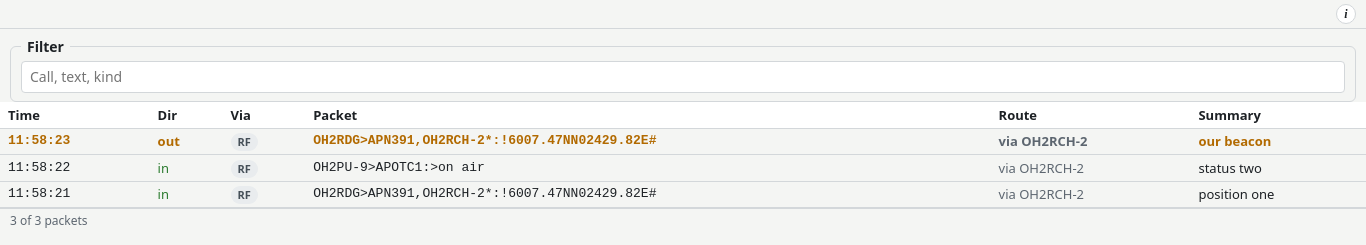
PacketsLog › has the (i) of the tab at the top, which says what the list is
The width and height of the screenshot is (1366, 245).
What coordinates should you click on to do the following:
click the button with class "info-toggle"
I would click on:
 (1346, 14)
Its box is [1336,4,1356,24].
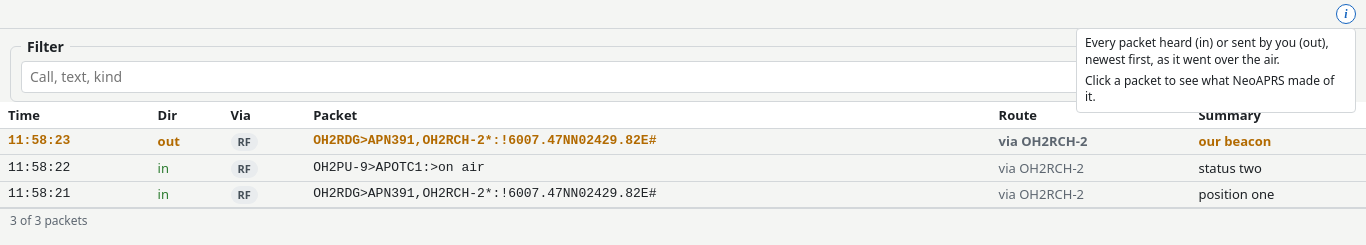
Result: the element with class "info-text" shows "Every packet heard (in) or sent by you (out), newest first" at [1085,34,1329,68]
